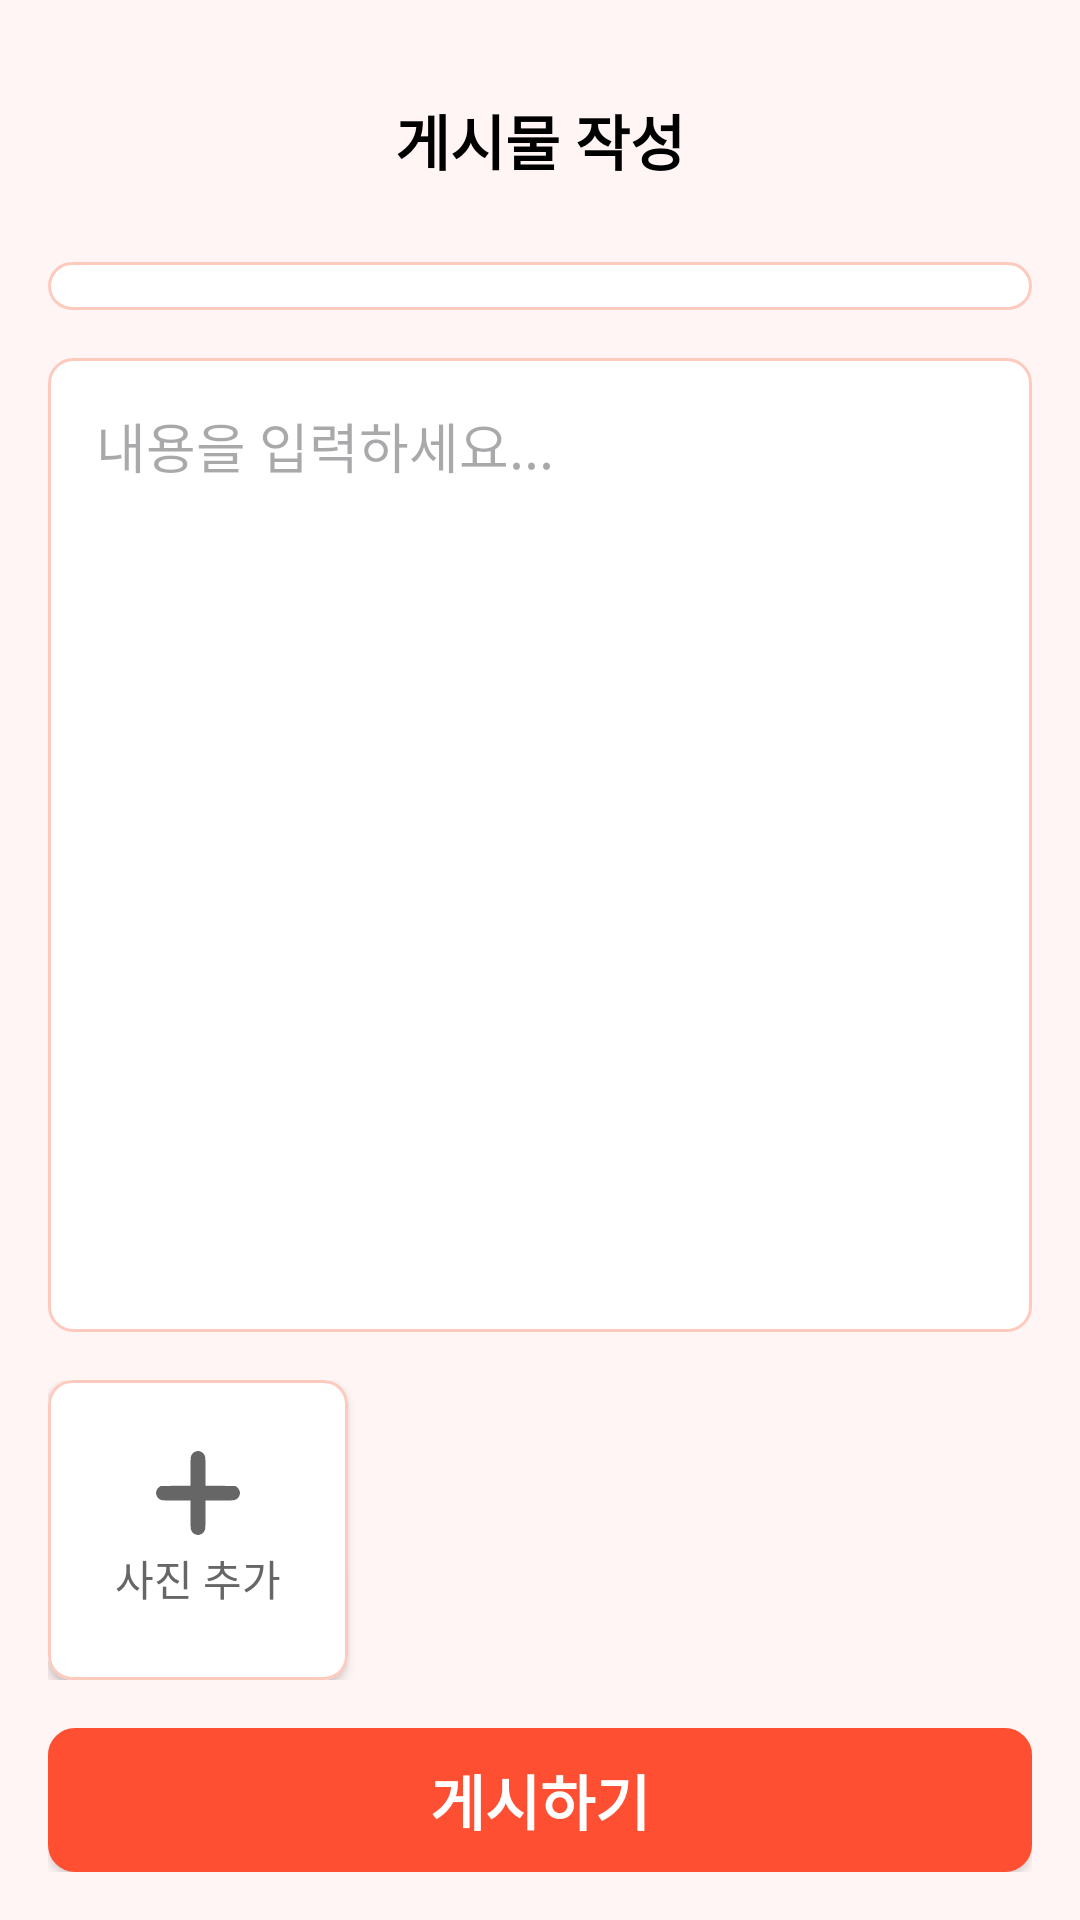

Locate icon controls on the screen. Image size 1080px×1920px, boxes as (x1, y1, x2, y2).
plus: (156, 1451, 240, 1535)
